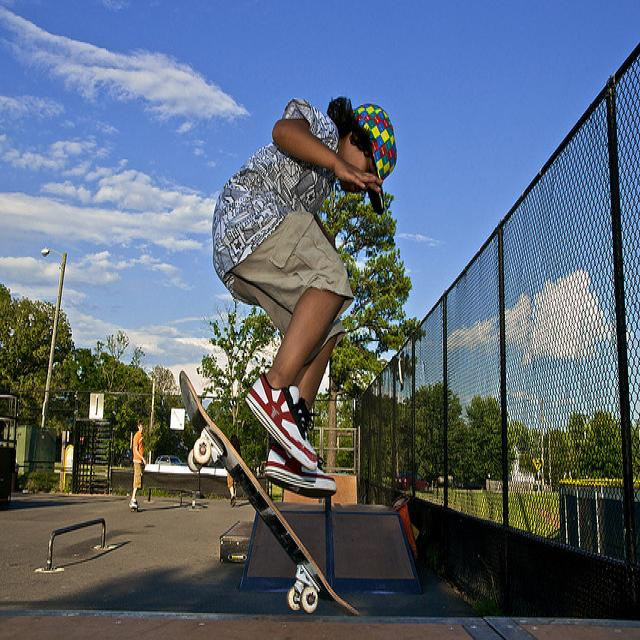Vehicle: (395, 468, 430, 495), (155, 455, 187, 465)
